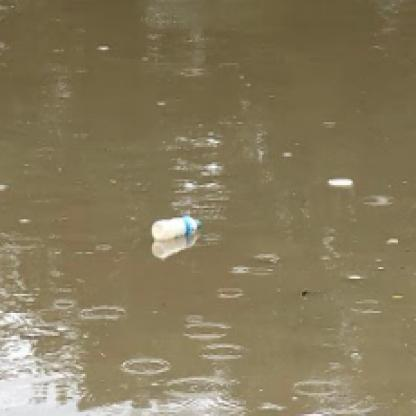plastic bottle: (152, 215, 201, 241)
